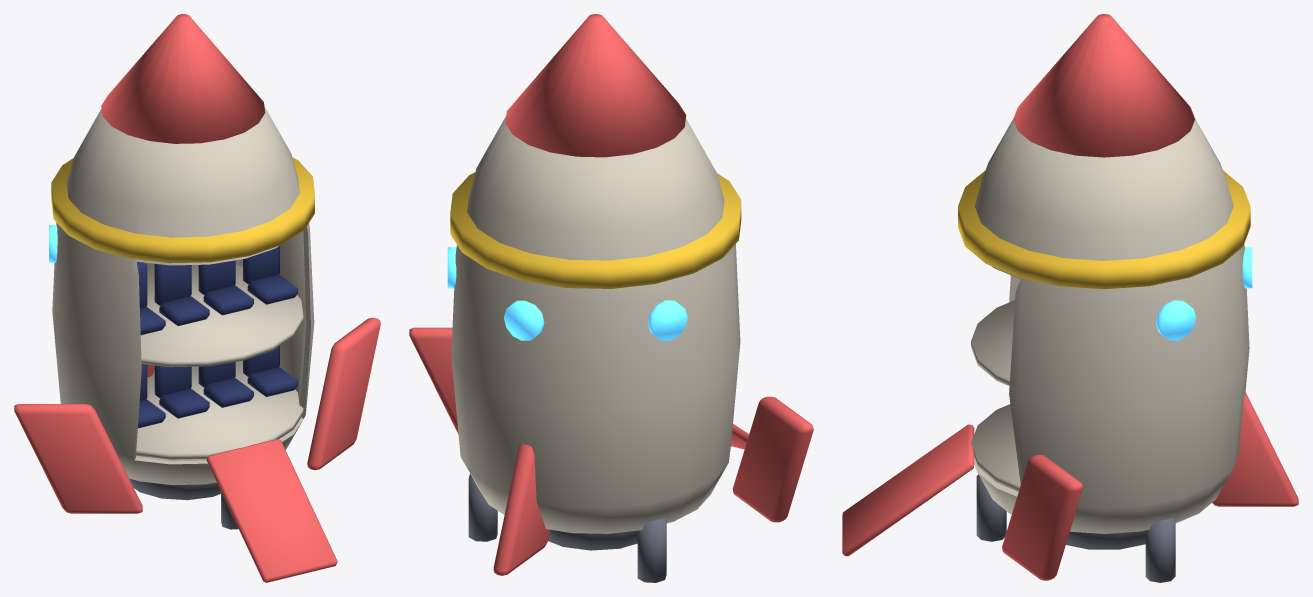
Rendered from escape_ship.glb.
3 views of the same model, side by side, from view 1: azimuth 30°, elevation 25°; view 2: azimuth 150°, elevation 25°; view 3: azimuth 270°, elevation 25° (orthographic). The views are drawn at different scales.
Visible parts, largest first — view 1: Escape_Ship, Seat_2, Seat_3, Seat_6, Seat_4, Seat_7, Seat_8, Seat_1, Seat_5; view 2: Escape_Ship; view 3: Escape_Ship.
Boxes of the visible parts, <box> form: Escape_Ship: <box>14,14,380,582</box>; Seat_2: <box>154,264,209,325</box>; Seat_3: <box>198,260,253,315</box>; Seat_6: <box>154,365,209,418</box>; Seat_4: <box>243,246,297,304</box>; Seat_7: <box>198,362,253,407</box>; Seat_8: <box>243,346,297,396</box>; Seat_1: <box>136,262,165,335</box>; Seat_5: <box>137,364,165,428</box>; Escape_Ship: <box>409,14,813,582</box>; Escape_Ship: <box>842,14,1298,582</box>.
Size of the model in its own units: 4.96 by 6.13 by 4.87.
